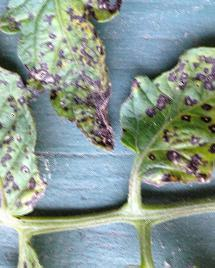Tomato Septoria leaf spot: (8, 0, 125, 163), (126, 31, 215, 186), (0, 20, 50, 226)
